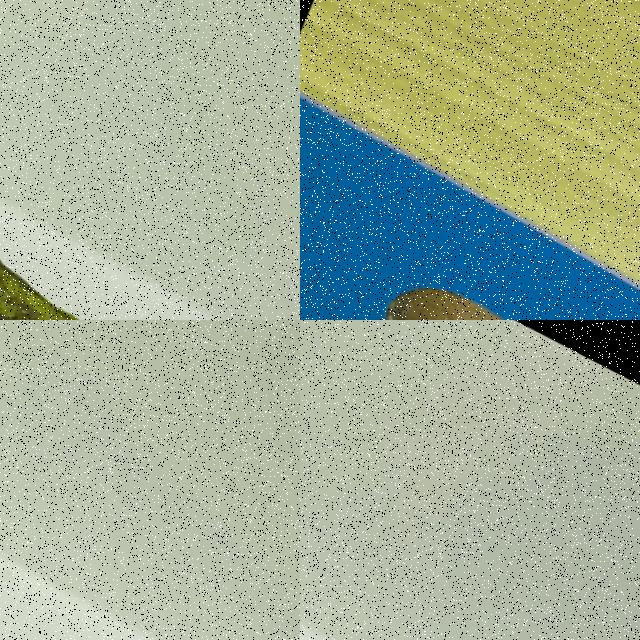Fine_cocoabeans: (300, 211, 639, 319)
Flat_cocoabeans: (0, 114, 252, 319), (0, 524, 281, 639)
